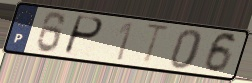0: (168, 28, 204, 71)
1: (115, 21, 136, 63)
6: (200, 31, 240, 77), (35, 11, 67, 55)
P: (61, 14, 105, 58)
T: (140, 22, 173, 68)
